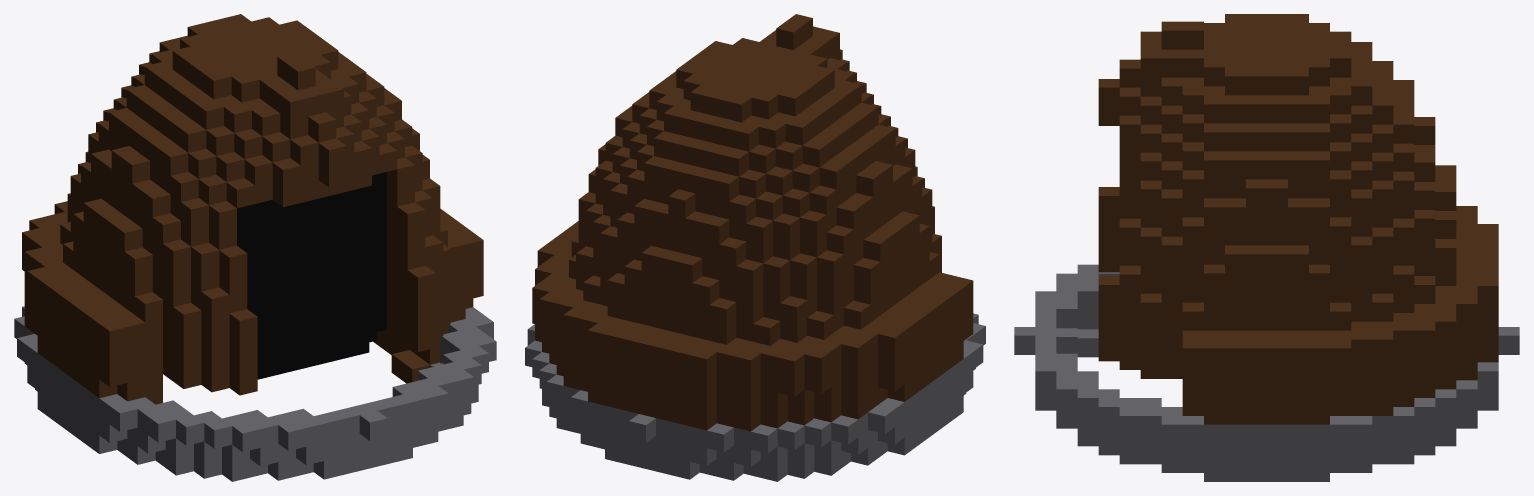
The model's file is leather_uncommon_helmet_lod1.glb.
The picture shows the model from 3 angles, left to right: view 1: azimuth 30°, elevation 25°; view 2: azimuth 150°, elevation 25°; view 3: azimuth 270°, elevation 25°; orthographic projection. The views are drawn at different scales.
Parts seen in each view (by area): view 1: leather_uncommon_helmet_lod1; view 2: leather_uncommon_helmet_lod1; view 3: leather_uncommon_helmet_lod1.
Boxes of the visible parts, <box> form: leather_uncommon_helmet_lod1: <box>14,14,496,481</box>; leather_uncommon_helmet_lod1: <box>525,14,985,481</box>; leather_uncommon_helmet_lod1: <box>1014,14,1519,481</box>.
Bounding box in the file's own units: 0.504 × 0.456 × 0.576.
